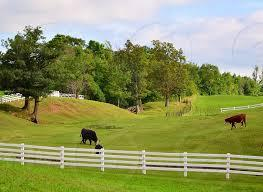cow: (79, 127, 99, 146), (224, 113, 247, 129)
